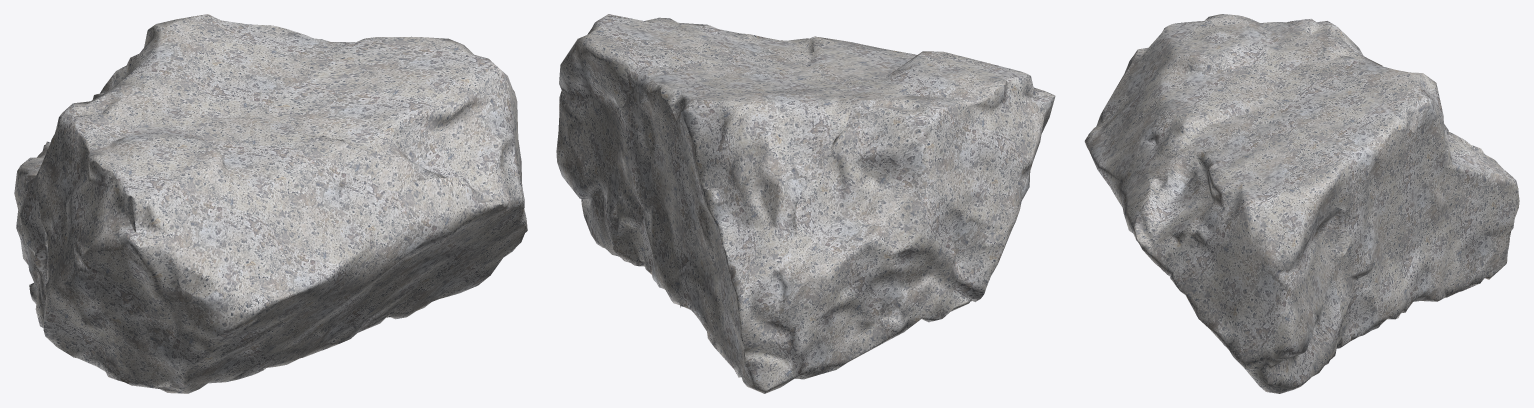
The model's file is SM_Rock_Large_A.fbx.
3 views of the same model, side by side, from view 1: azimuth 30°, elevation 25°; view 2: azimuth 150°, elevation 25°; view 3: azimuth 270°, elevation 25° (orthographic). The views are drawn at different scales.
Parts seen in each view (by area): view 1: SM_Rock_Large_A_LOD0; view 2: SM_Rock_Large_A_LOD0; view 3: SM_Rock_Large_A_LOD0.
Part boxes in pixels (box(x1,y1,x2,y2)): SM_Rock_Large_A_LOD0: box(14, 14, 527, 393); SM_Rock_Large_A_LOD0: box(556, 14, 1055, 393); SM_Rock_Large_A_LOD0: box(1084, 14, 1519, 393).
Bounding box in the file's own units: 1228 × 1115 × 648.
1 material, 1 textured.
